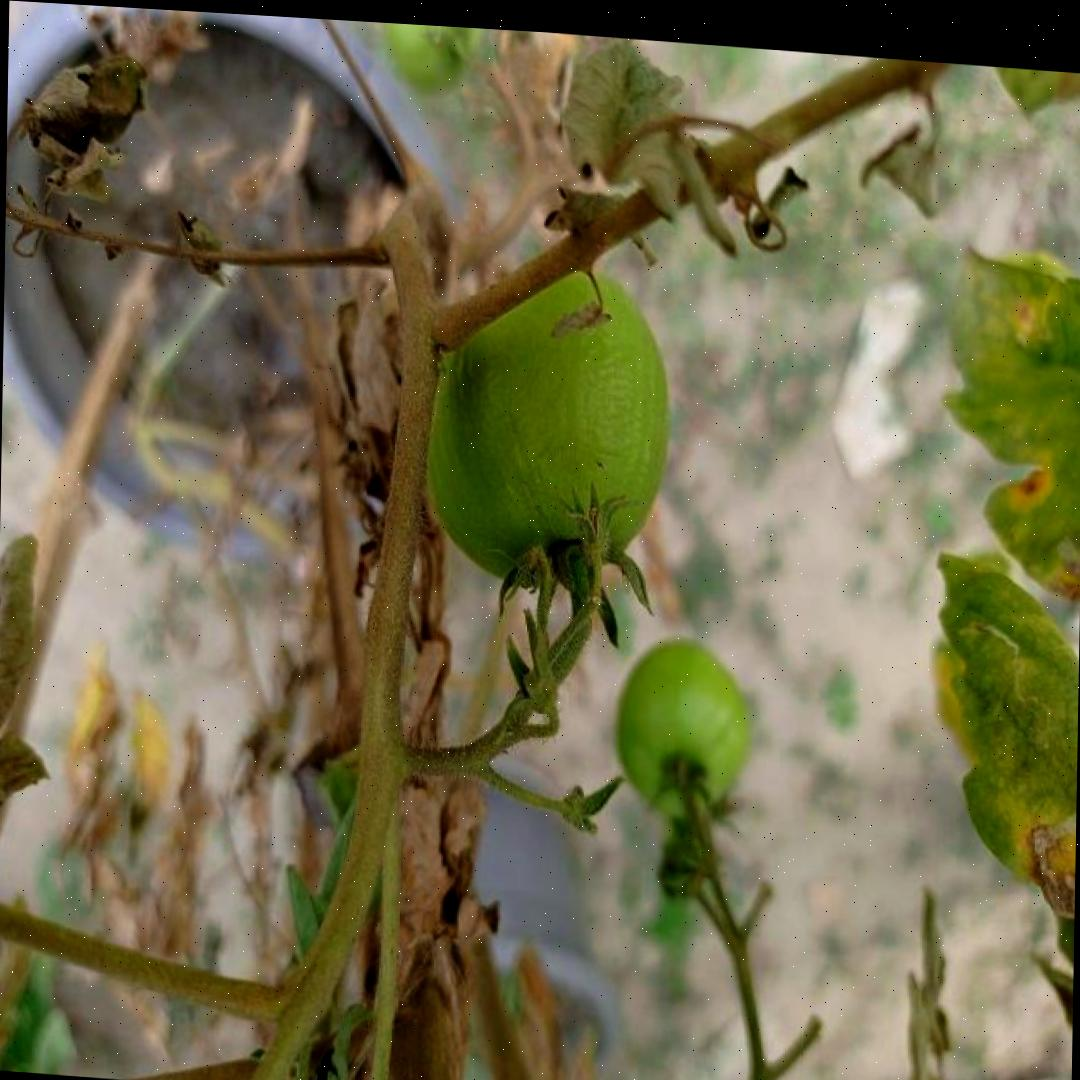mentah: (419, 247, 675, 601), (616, 636, 753, 826)
